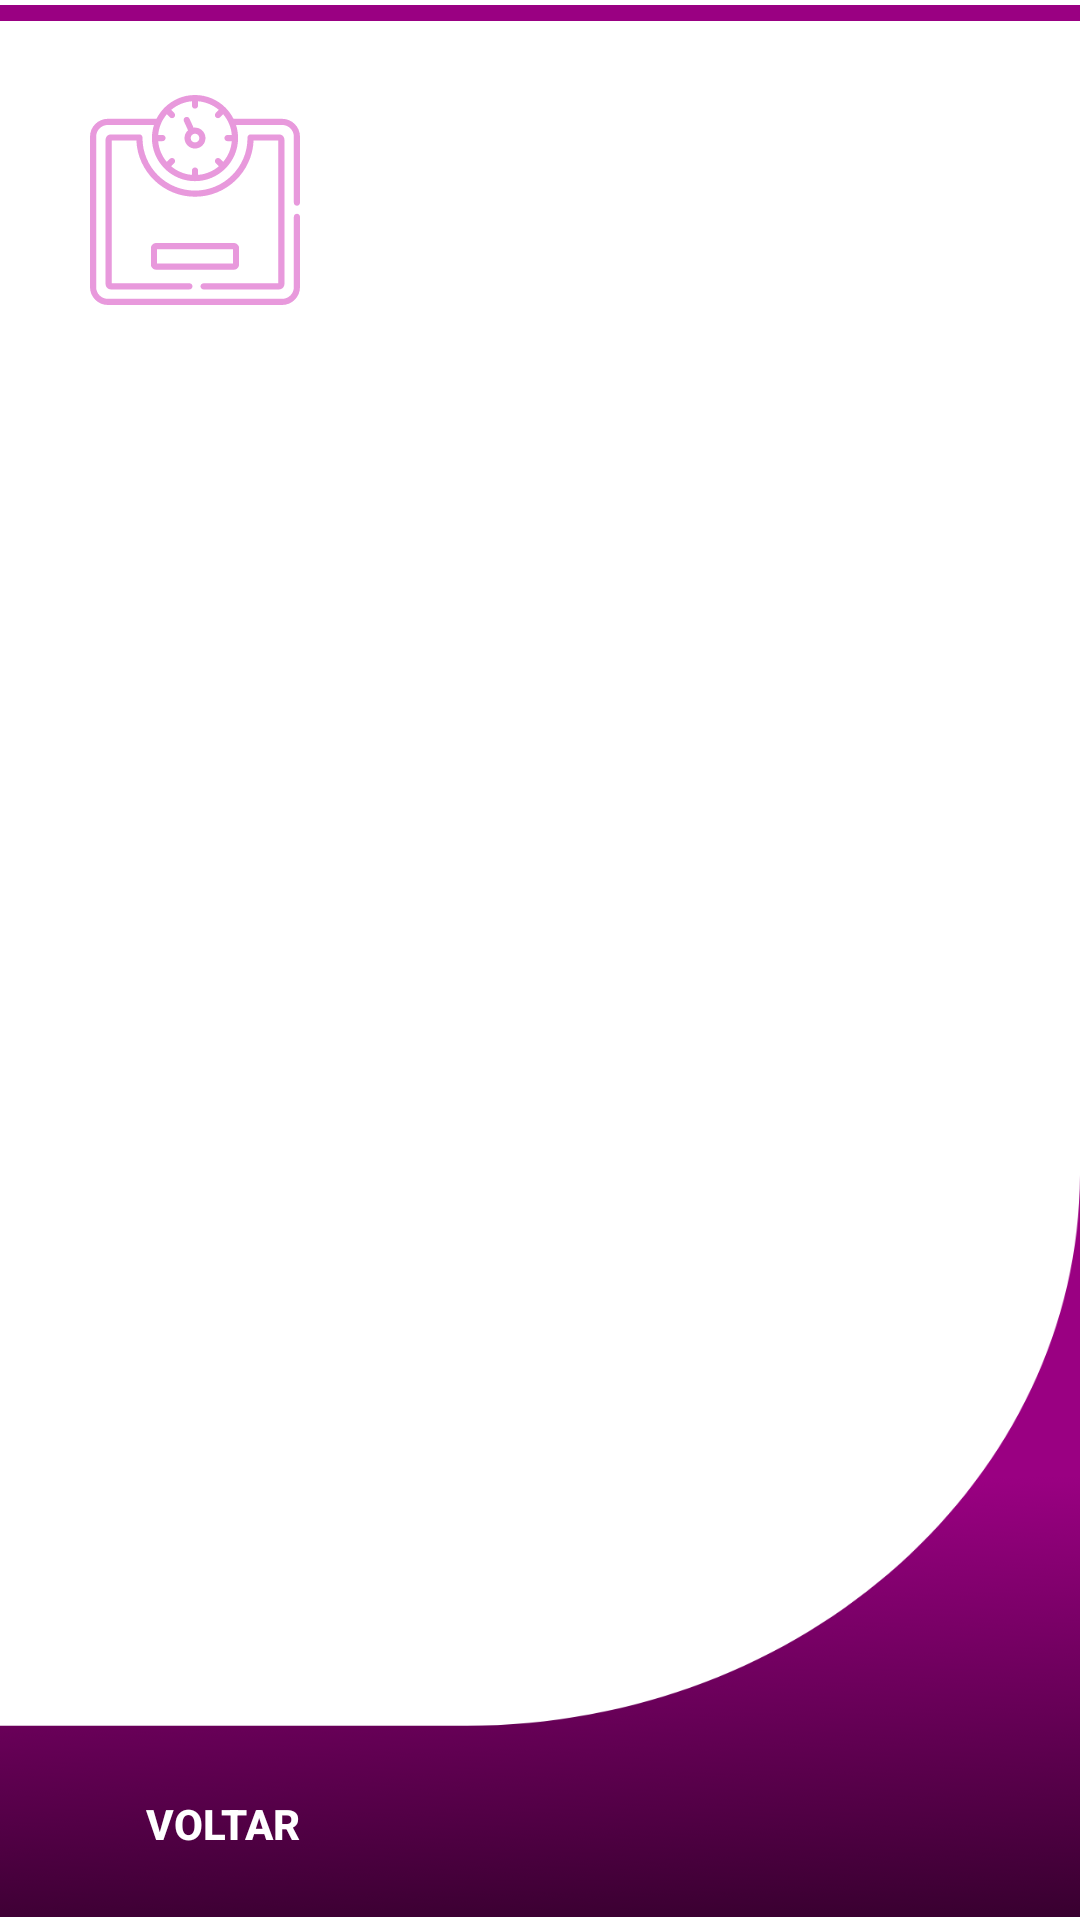

Locate icon controls on the screen. Image size 1080px x 1920px, boxes as Rect(x1, y1, x2, y2).
line for Balance img: Rect(90, 95, 300, 305)
